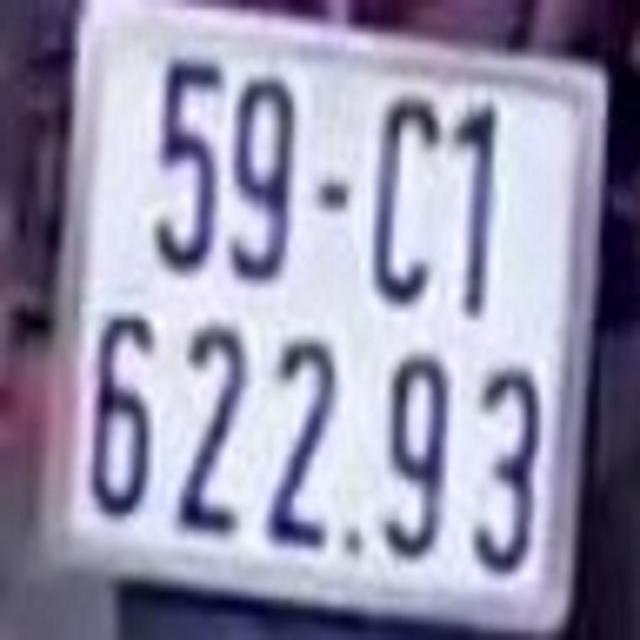1: (450, 92, 500, 324)
2: (170, 317, 248, 534), (266, 329, 335, 554)
3: (477, 363, 543, 576)
5: (151, 51, 220, 279)
6: (97, 310, 155, 524)
9: (224, 58, 293, 297), (384, 344, 450, 560)
C: (363, 87, 440, 316)
